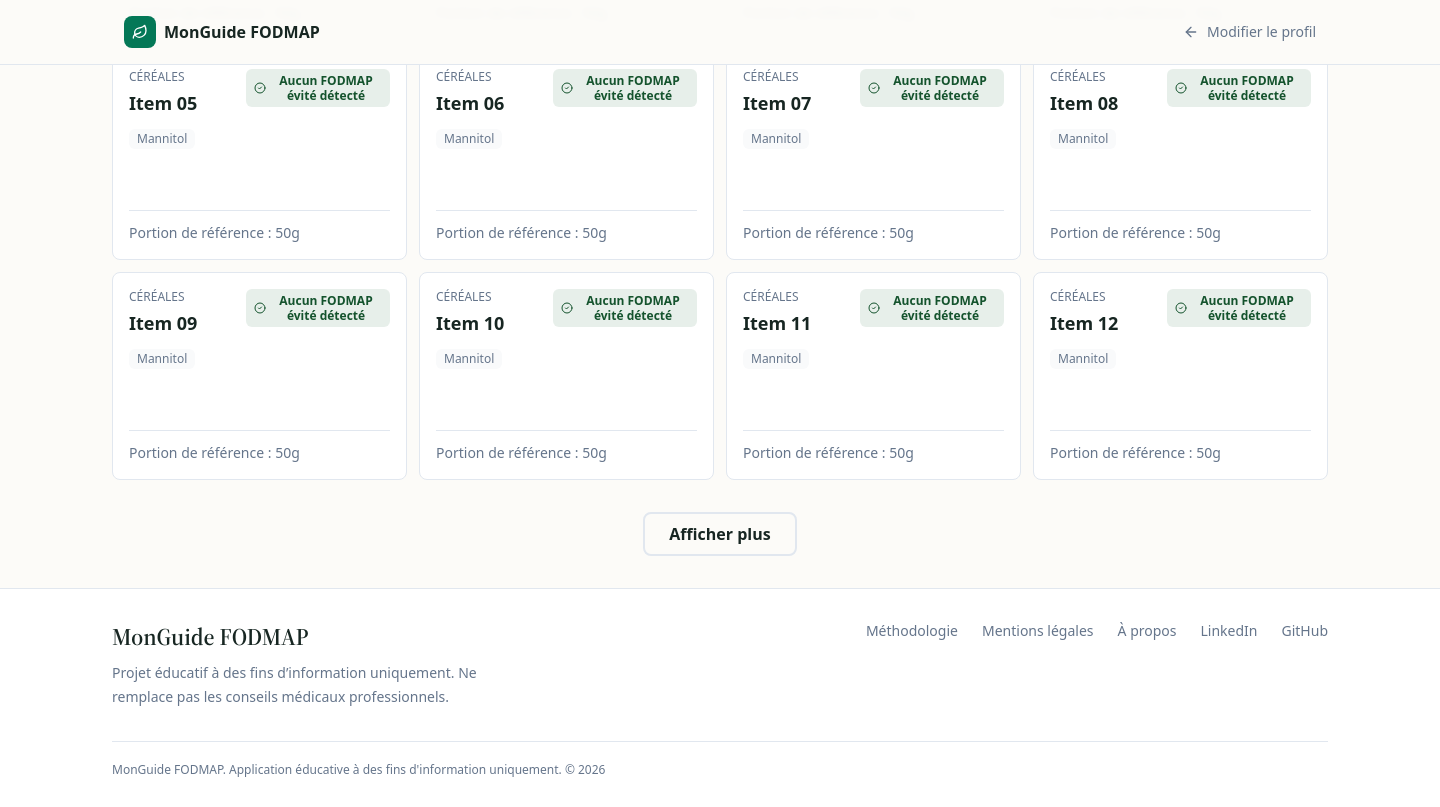
Test: Explorer workflow › resets the visible limit after the profile-relative filter changes
(page scrolled)
Click the button "Afficher plus" at (720, 534), box [643,512,797,556]
(page scrolled)
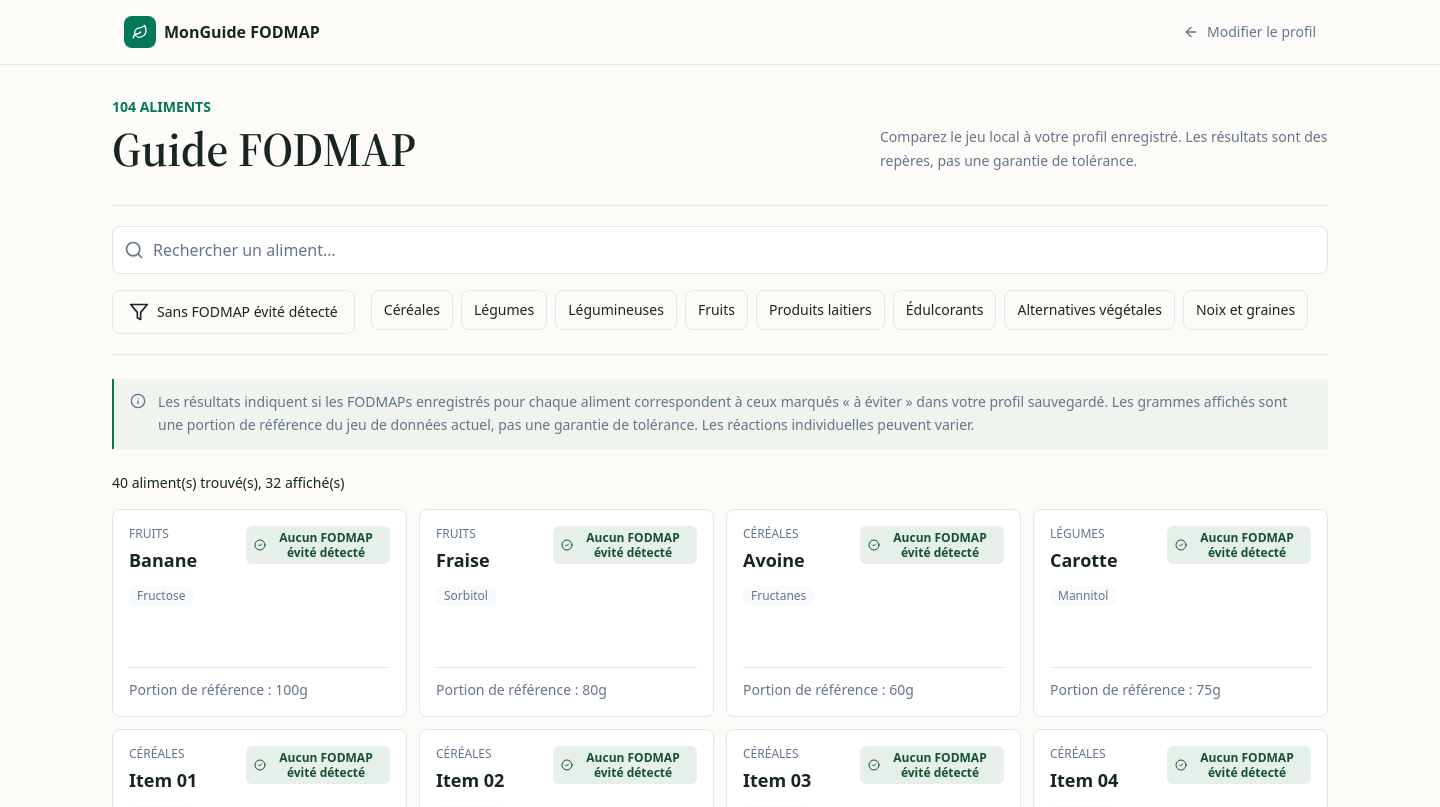
Click the button named "Afficher uniquement les aliments sans FODMAP marqué comme étant à éviter dans mon profil enregistré" at (233, 312), box [112,290,355,334]
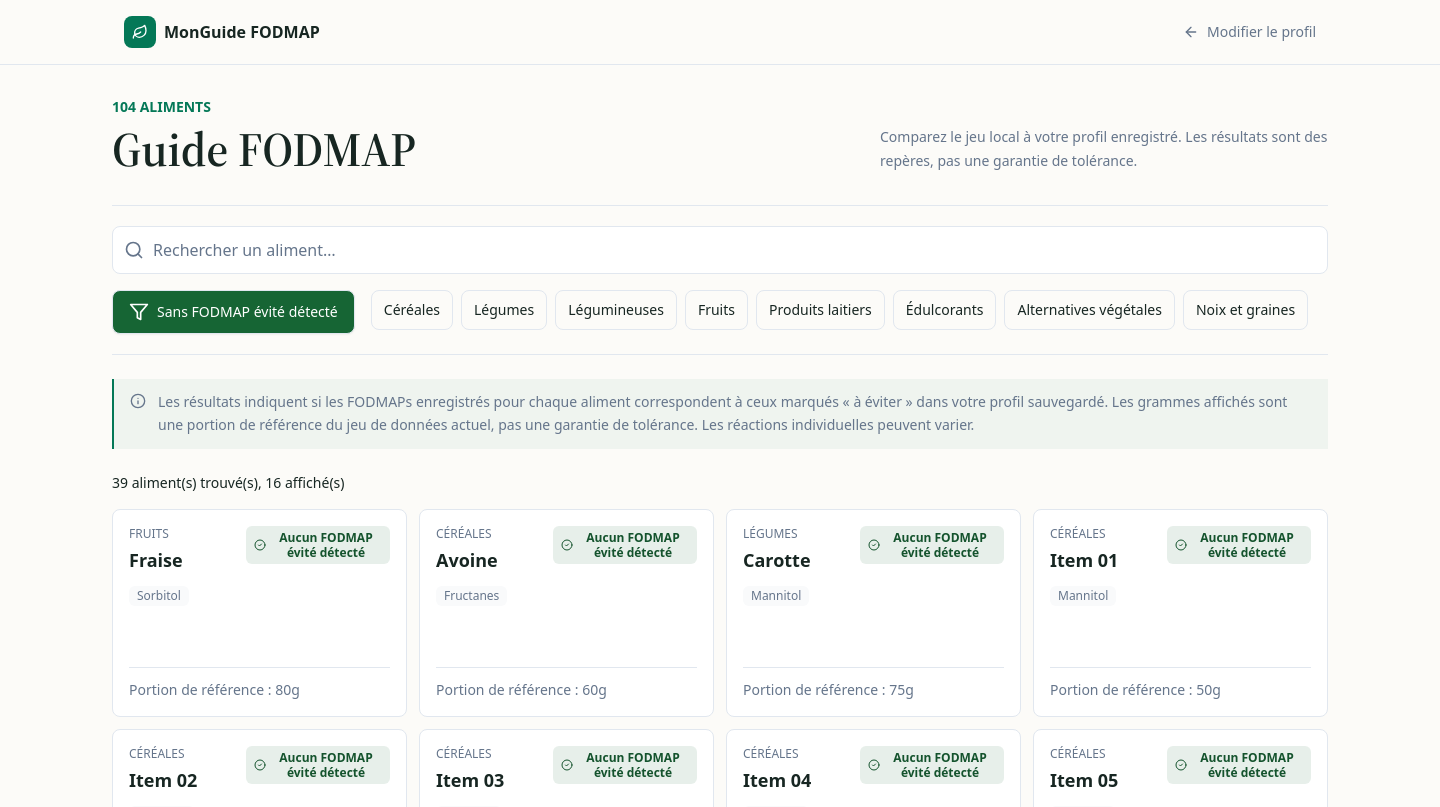
Check: the message shows "39 aliment(s) trouvé(s)", box [112,472,258,492]
Check: the message shows "16 affiché(s)", box [258,472,344,492]
Check: the heading "Banane" is gone
